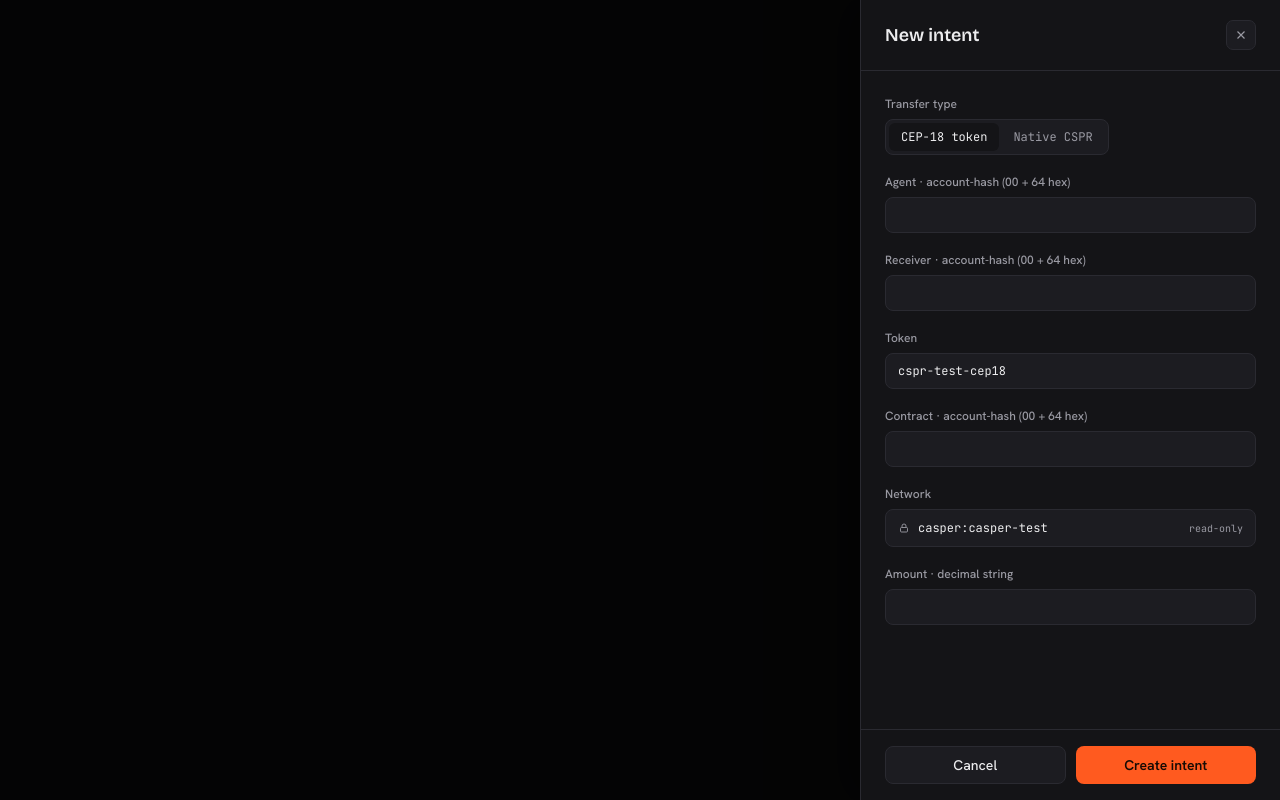
NewIntentDrawer — native CSPR mode › hides the token + contract inputs once native mode is selected
Click the button "Native CSPR": (1053, 137) [1001, 123, 1105, 151]
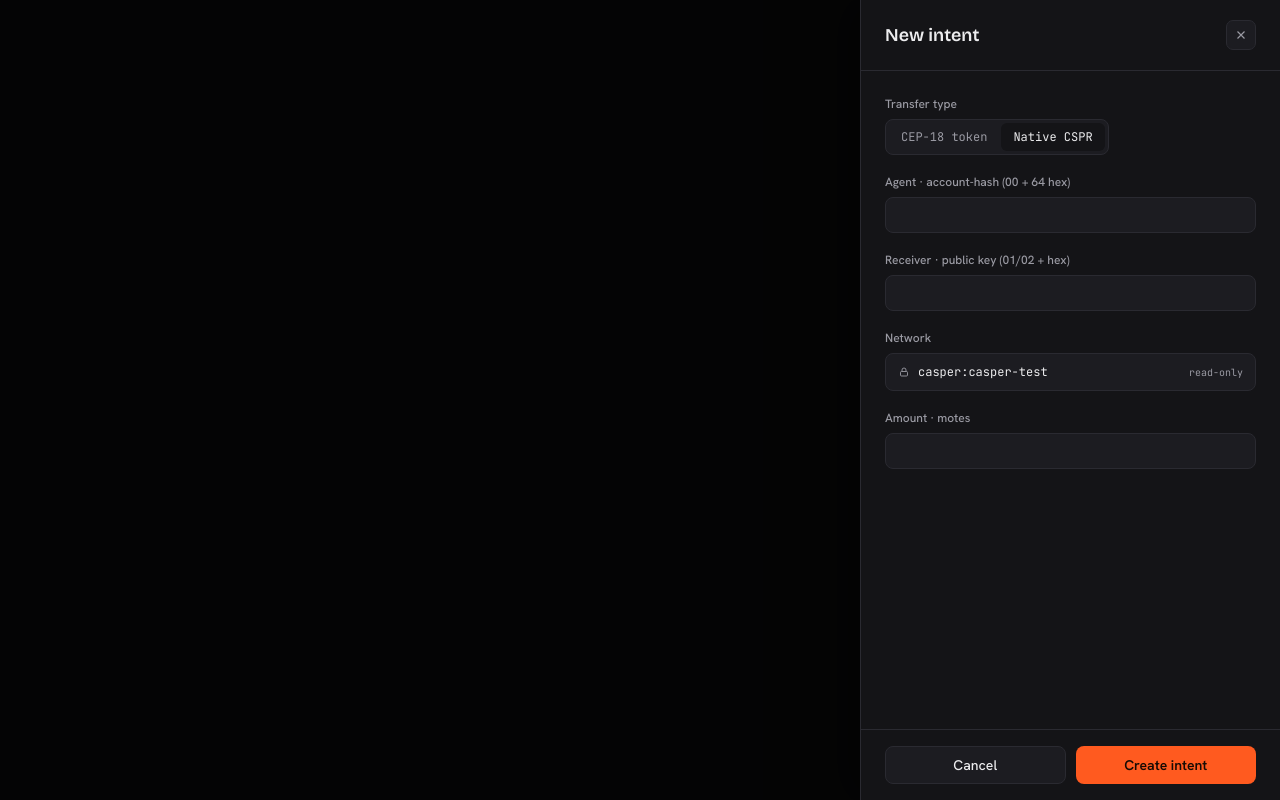
Expected: the label with id "token" is gone
Expected: the label with id "contract" is gone
